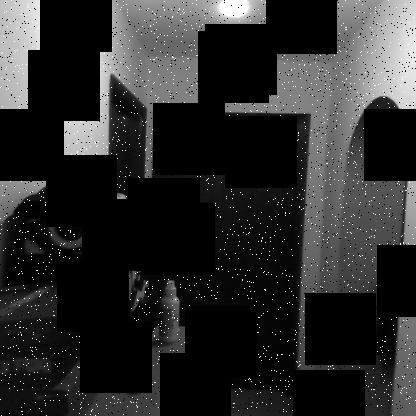Porte: (132, 111, 313, 400)
